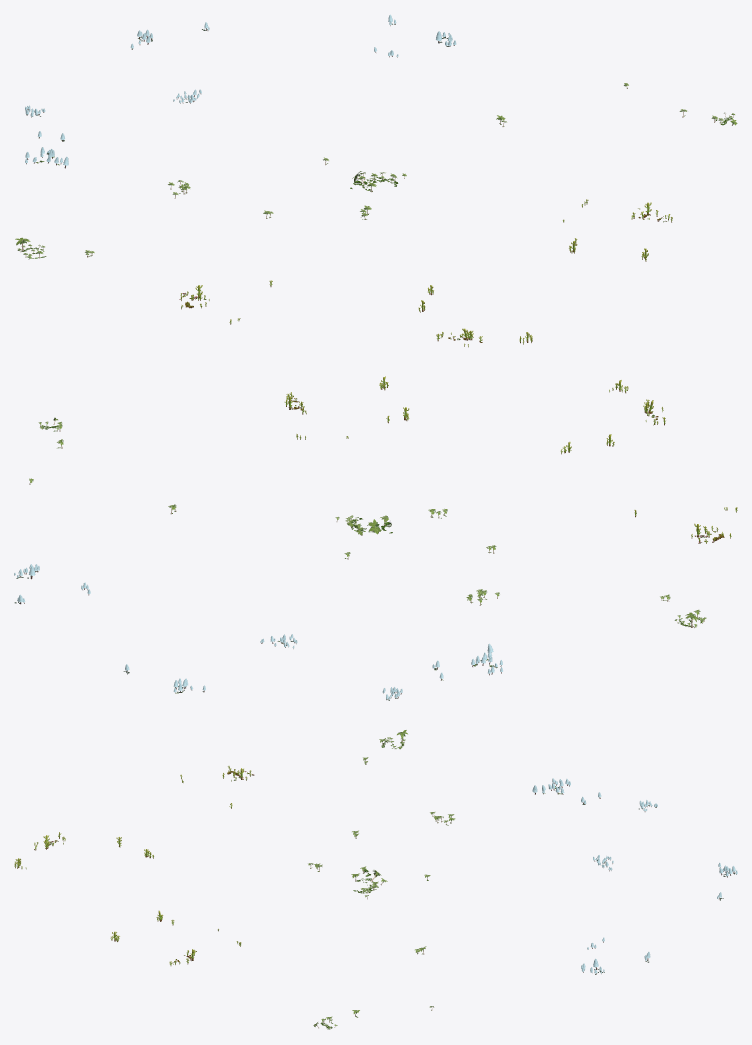
The model's file is Vegetation.fbx.
The picture shows the model from 3 angles, top to bottom: view 1: azimuth 30°, elevation 25°; view 2: azimuth 150°, elevation 25°; view 3: azimuth 270°, elevation 25°; orthographic projection. The views are drawn at different scales.
Parts seen in each view (by area): view 1: Vegetation; view 2: Vegetation; view 3: Vegetation.
Part boxes in pixels (x1,y1,x2,y2): Vegetation: [15, 14, 737, 347]; Vegetation: [14, 376, 737, 700]; Vegetation: [14, 730, 737, 1029].
Size of the model in its own units: 4325 by 101 by 4538.
1 material, 1 textured.
